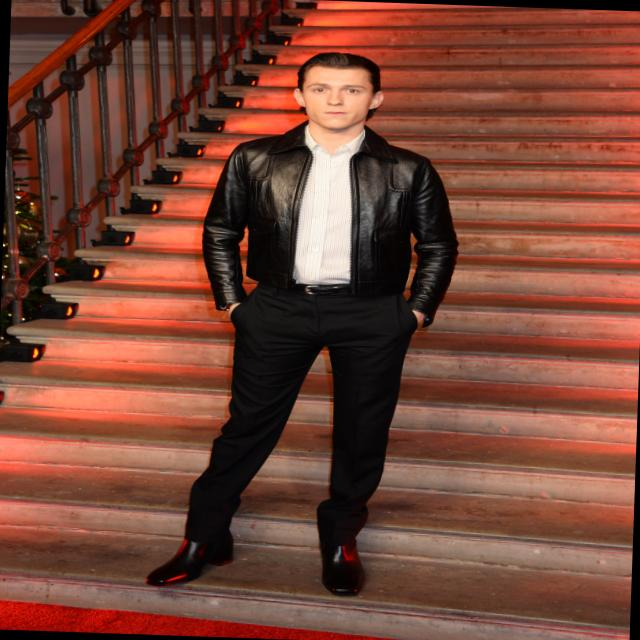Jacket: (175, 120, 462, 352)
